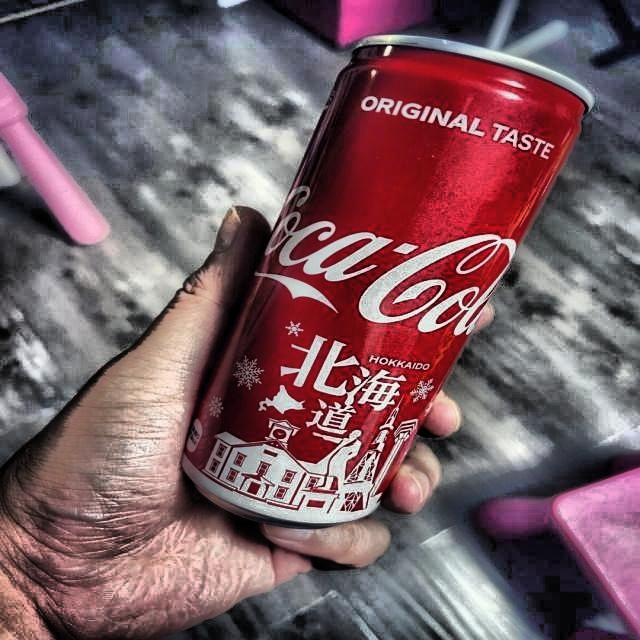can: (179, 24, 601, 540)
